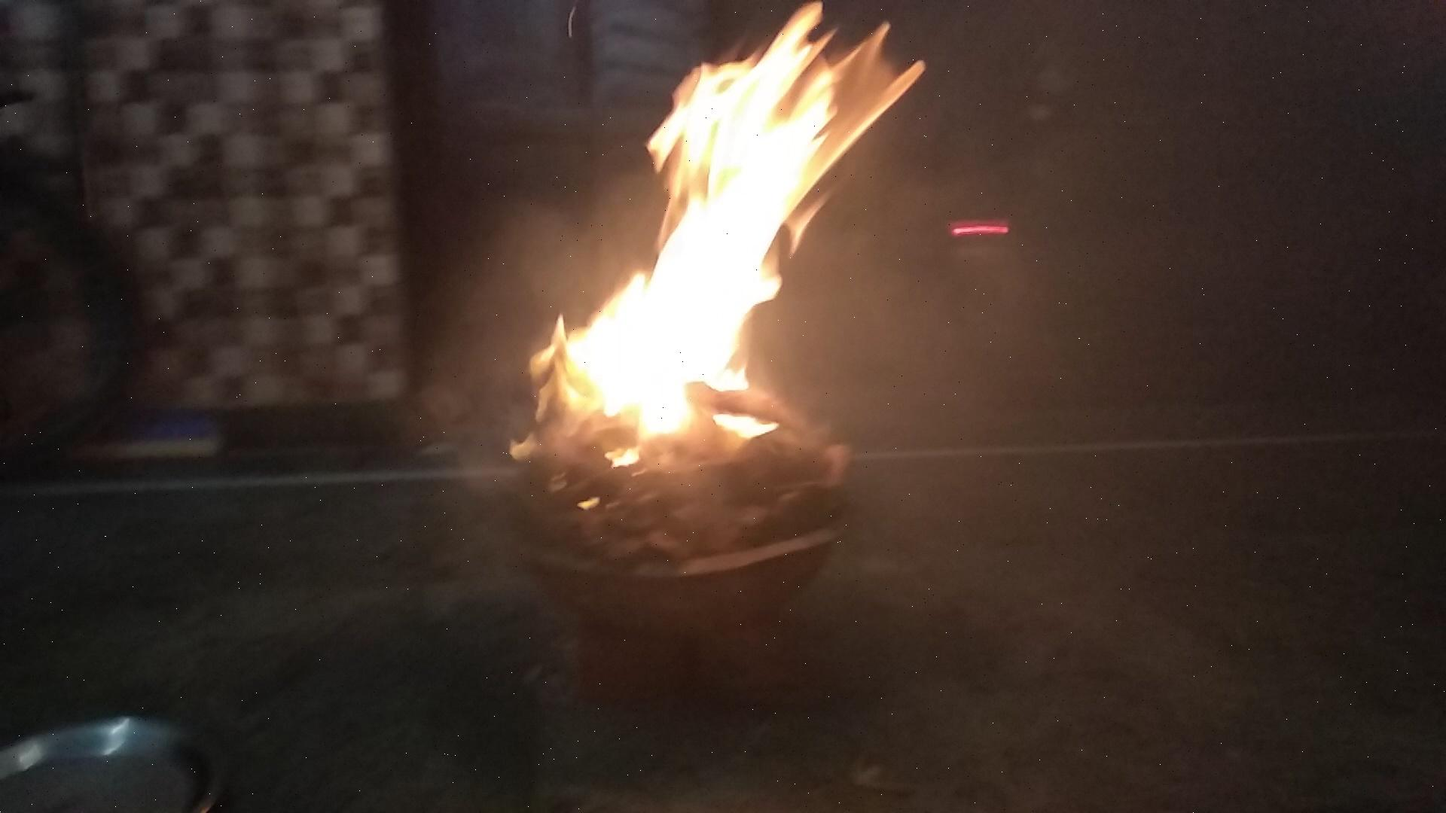fire: (501, 3, 922, 478)
